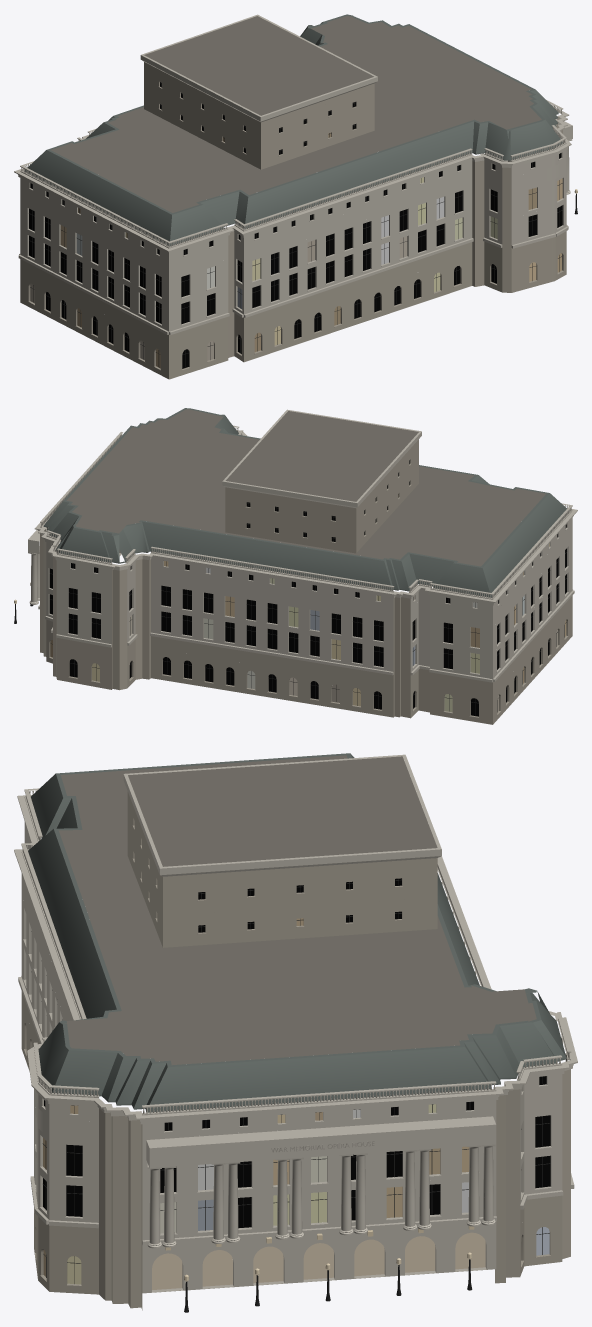
File: opera_lod0.glb
The picture shows the model from 3 angles, top to bottom: view 1: azimuth 30°, elevation 25°; view 2: azimuth 150°, elevation 25°; view 3: azimuth 270°, elevation 25°; orthographic projection. The views are drawn at different scales.
Visible parts, largest first — view 1: L0_stone, L0_roof, L0_paint, L0_win, L0_metal; view 2: L0_stone, L0_roof, L0_paint, L0_win, L0_metal; view 3: L0_stone, L0_roof, L0_paint, L0_win, L0_shop, L0_metal.
Boxes of the visible parts, left/top/right/bottom form: L0_stone: left=14, top=14, right=572, bottom=379; L0_roof: left=51, top=16, right=541, bottom=212; L0_paint: left=25, top=14, right=562, bottom=246; L0_win: left=29, top=82, right=562, bottom=368; L0_metal: left=29, top=82, right=577, bottom=367; L0_stone: left=28, top=409, right=577, bottom=724; L0_roof: left=66, top=409, right=545, bottom=566; L0_paint: left=43, top=408, right=566, bottom=597; L0_win: left=49, top=461, right=566, bottom=716; L0_metal: left=14, top=460, right=566, bottom=715; L0_stone: left=14, top=754, right=577, bottom=1310; L0_roof: left=58, top=755, right=536, bottom=1064; L0_paint: left=28, top=753, right=566, bottom=1112; L0_win: left=43, top=878, right=550, bottom=1284; L0_shop: left=152, top=1232, right=485, bottom=1289; L0_metal: left=31, top=879, right=566, bottom=1312.
Bounding box in the file's own units: 118 × 47 × 76.99.
